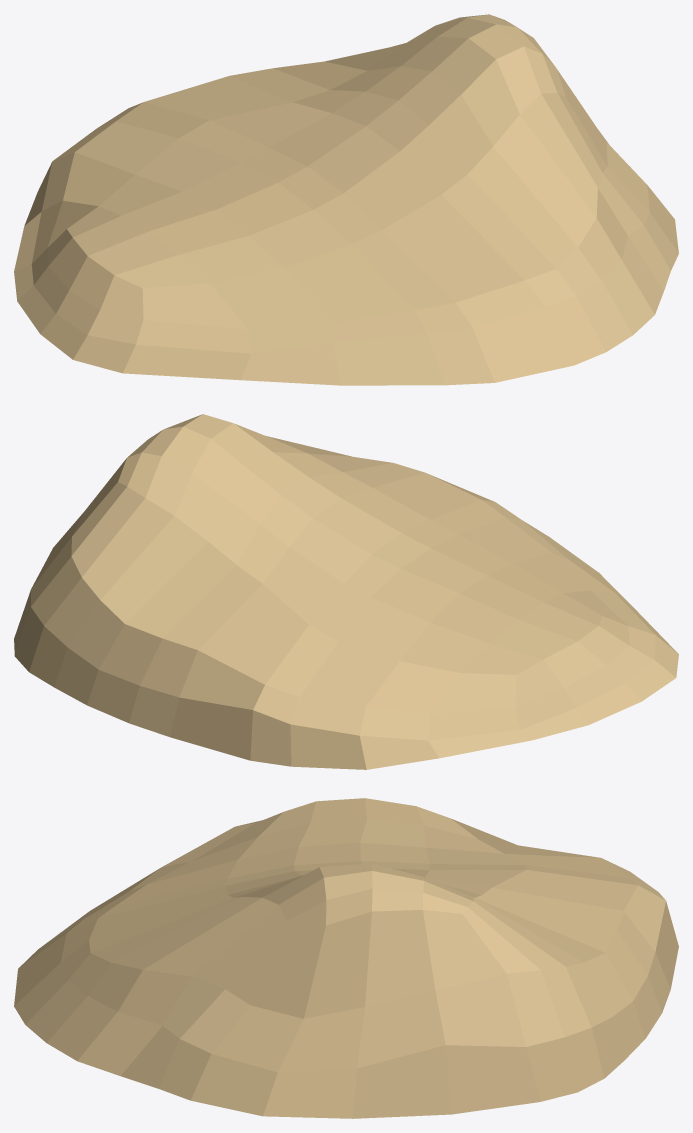
Rendered from Sand_4_low.fbx.
The picture shows the model from 3 angles, top to bottom: view 1: azimuth 30°, elevation 25°; view 2: azimuth 150°, elevation 25°; view 3: azimuth 270°, elevation 25°; orthographic projection. The views are drawn at different scales.
Parts seen in each view (by area): view 1: Sand_4_low; view 2: Sand_4_low; view 3: Sand_4_low.
Boxes of the visible parts, left/top/right/bottom form: Sand_4_low: left=14, top=14, right=678, bottom=385; Sand_4_low: left=14, top=414, right=678, bottom=769; Sand_4_low: left=14, top=798, right=678, bottom=1118.
Bounding box in the file's own units: 0.5134 × 0.1513 × 0.4926.
